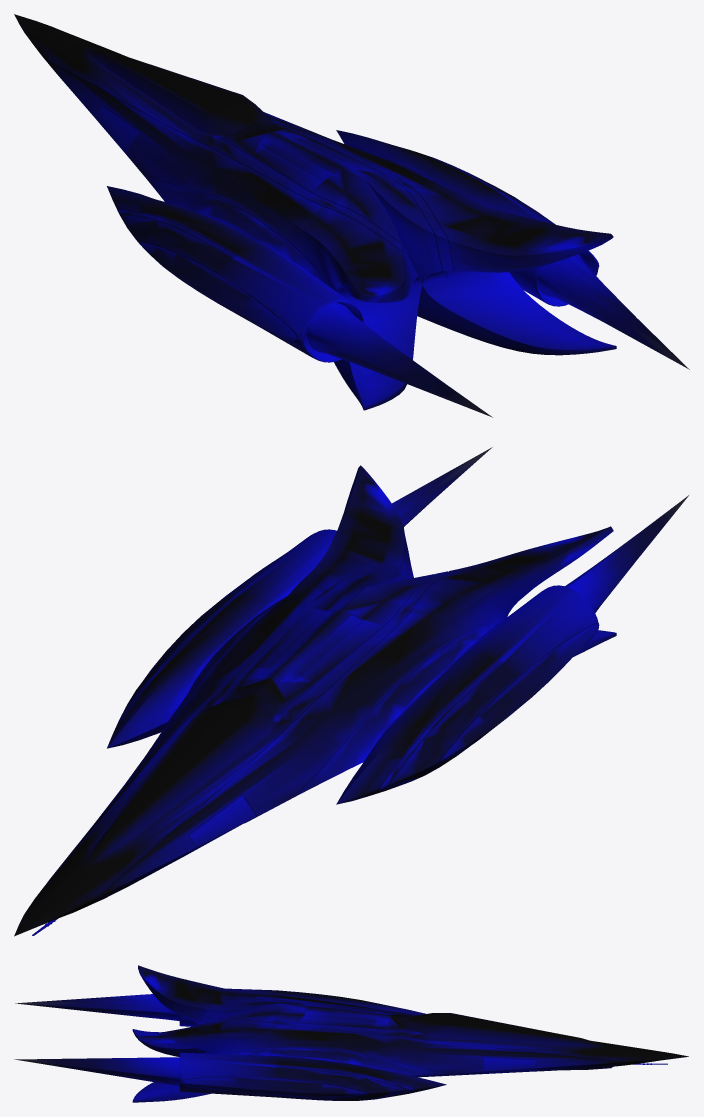
File: ff_interceptor_01.fbx
3 views of the same model, one above another, from view 1: azimuth 30°, elevation 25°; view 2: azimuth 150°, elevation 25°; view 3: azimuth 270°, elevation 25° (orthographic). The views are drawn at different scales.
Visible parts, largest first — view 1: ff_interceptor_01; view 2: ff_interceptor_01; view 3: ff_interceptor_01.
Boxes of the visible parts, x1,y1,x2,y2 form: ff_interceptor_01: (14,14,689,417); ff_interceptor_01: (14,447,688,936); ff_interceptor_01: (14,965,688,1102).
Bounding box in the file's own units: 434 × 147 × 1312.
